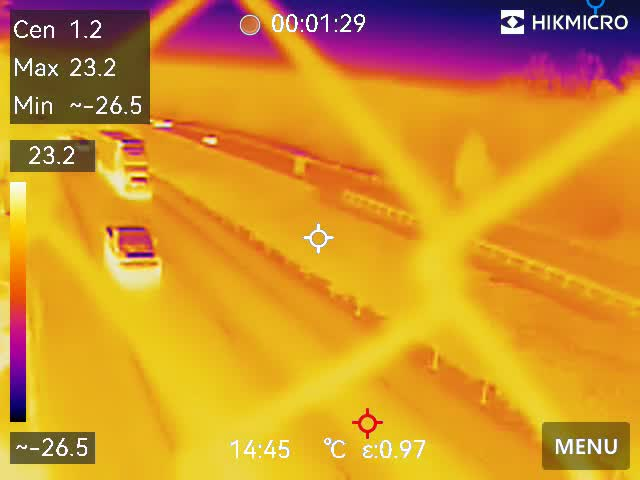heavyTruck: (90, 126, 158, 208)
lightTruck: (98, 214, 167, 285)
vehicle: (195, 131, 222, 148)
